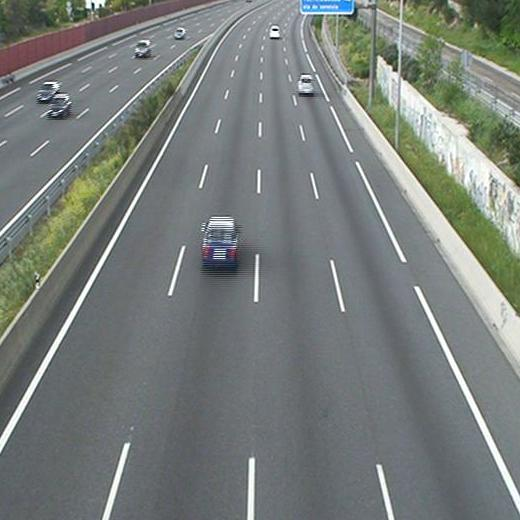car: (203, 217, 239, 263), (297, 74, 313, 93), (269, 26, 281, 38)
